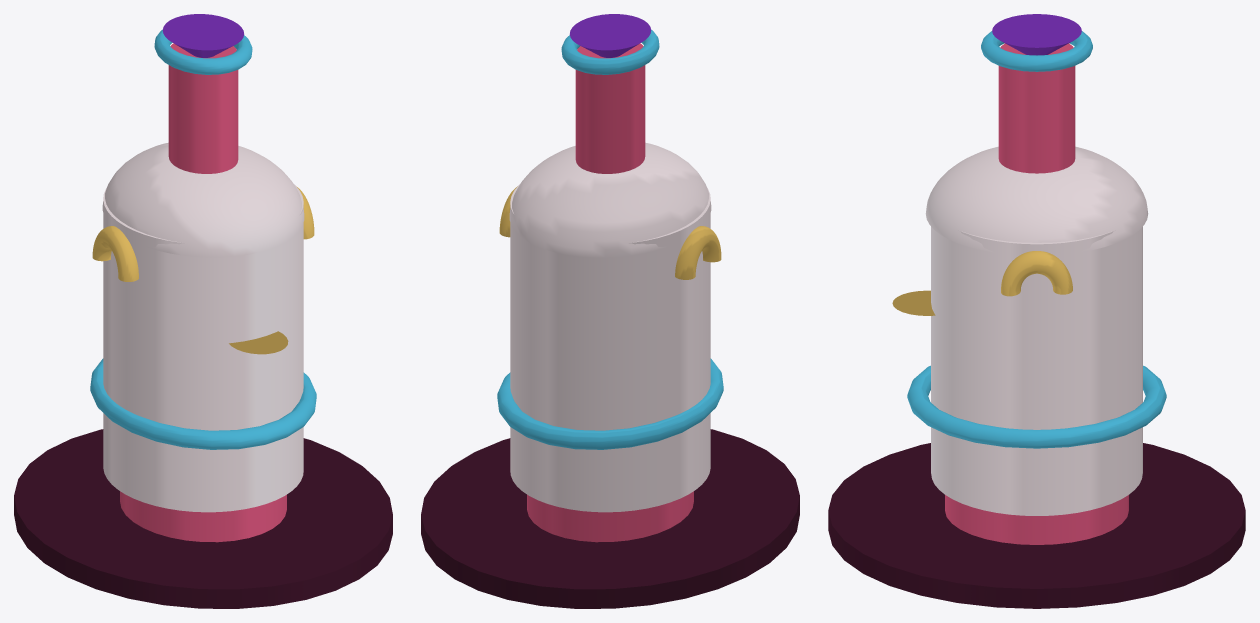
The model's file is 1203_唐图鉴_鎏金银注壶及温碗.glb.
The picture shows the model from 3 angles, left to right: view 1: azimuth 30°, elevation 25°; view 2: azimuth 150°, elevation 25°; view 3: azimuth 270°, elevation 25°; orthographic projection.
Parts seen in each view (by area): view 1: card_1203; view 2: card_1203; view 3: card_1203.
Boxes of the visible parts, <box> form: card_1203: <box>14,14,392,608</box>; card_1203: <box>421,14,799,608</box>; card_1203: <box>828,14,1245,608</box>.
Size of the model in its own units: 0.6763 by 1 by 0.7577.
